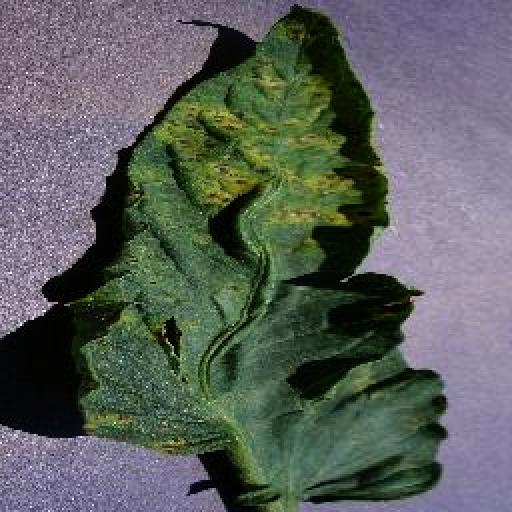disease_tomato: (79, 4, 448, 512)
